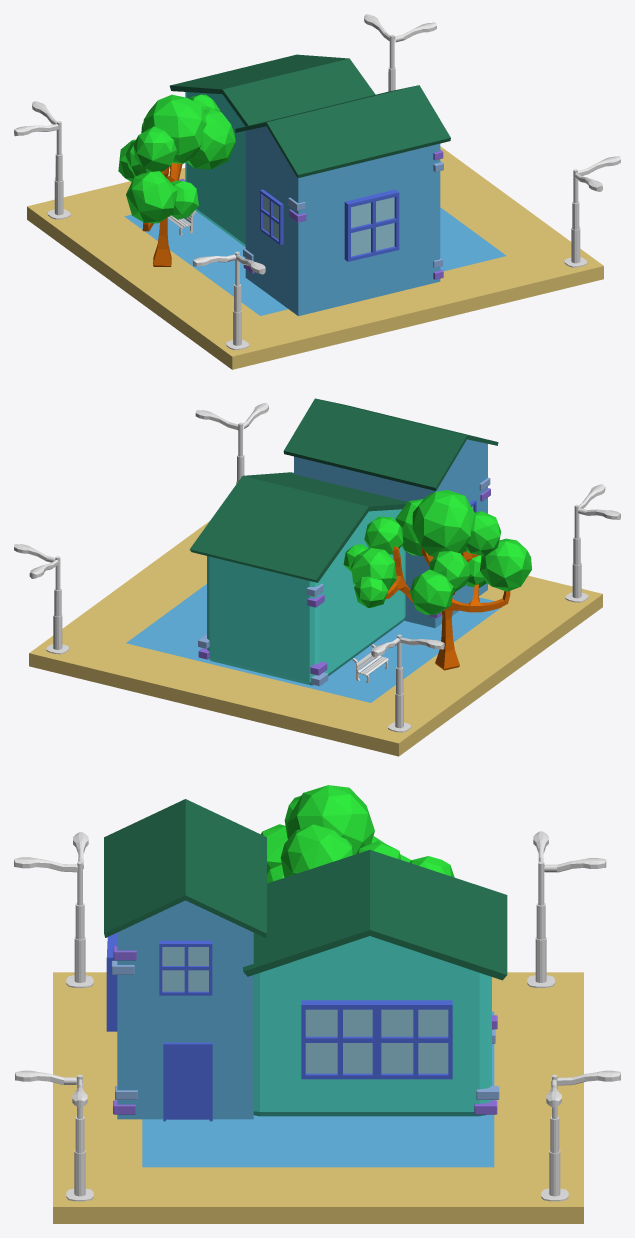
The model's file is ruas_quadra5.fbx.
The picture shows the model from 3 angles, top to bottom: view 1: azimuth 30°, elevation 25°; view 2: azimuth 150°, elevation 25°; view 3: azimuth 270°, elevation 25°; orthographic projection. The views are drawn at different scales.
Parts seen in each view (by area): view 1: Plane.005, Cube, Cube.001, Folha_5.002, Cube.075, Cube.072, Cube.003, Cube.068, Cube.070, Cube.069, Cube.076, Cube.071 (+1 smaller); view 2: Plane.005, Cube.072, Cube.075, Folha_5.002, Cube.001, Cube, tronco.001, Cube.069, Cube.071, Cube.068, Cube.070, Cube.080; view 3: Plane.005, Cube.072, Cube.075, Cube, Cube.001, Folha_5.002, Cube.077, Cube.078, Cube.079, Cube.002, Cube.068, Cube.069 (+3 smaller).
Part boxes in pixels (x1,y1,x2,y2): Plane.005: [27, 146, 603, 369]; Cube: [245, 126, 440, 316]; Cube.001: [235, 85, 450, 177]; Folha_5.002: [118, 94, 235, 223]; Cube.075: [169, 54, 375, 126]; Cube.072: [185, 92, 245, 246]; Cube.003: [344, 189, 399, 261]; Cube.068: [14, 101, 70, 219]; Cube.070: [564, 156, 620, 267]; Cube.069: [192, 251, 265, 350]; Cube.076: [260, 189, 283, 244]; Cube.071: [364, 14, 436, 91]; Plane.005: [29, 521, 602, 756]; Cube.072: [207, 509, 405, 685]; Cube.075: [189, 472, 407, 582]; Folha_5.002: [343, 490, 531, 614]; Cube.001: [283, 398, 498, 490]; Cube: [294, 439, 487, 628]; tronco.001: [385, 546, 510, 670]; Cube.069: [565, 484, 620, 602]; Cube.071: [14, 544, 69, 654]; Cube.068: [371, 634, 444, 732]; Cube.070: [195, 403, 268, 483]; Cube.080: [352, 644, 388, 682]; Plane.005: [53, 972, 583, 1223]; Cube.072: [253, 936, 491, 1116]; Cube.075: [243, 850, 507, 980]; Cube: [117, 900, 253, 1119]; Cube.001: [104, 799, 266, 937]; Folha_5.002: [261, 785, 454, 883]; Cube.077: [376, 1000, 452, 1079]; Cube.078: [301, 1000, 377, 1079]; Cube.079: [163, 1042, 212, 1121]; Cube.002: [159, 940, 212, 995]; Cube.068: [527, 831, 606, 987]; Cube.069: [14, 832, 93, 987].
Bounding box in the file's own units: 793 × 336 × 755.
